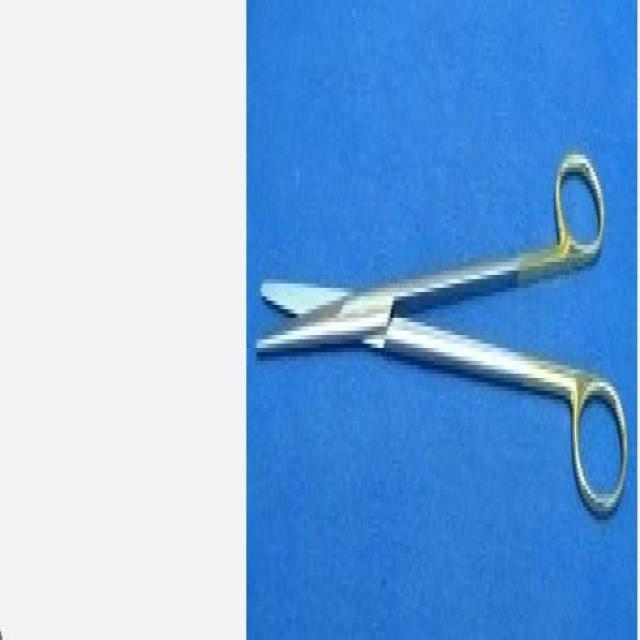Metzenbaum Sciccors: (253, 150, 630, 530)
